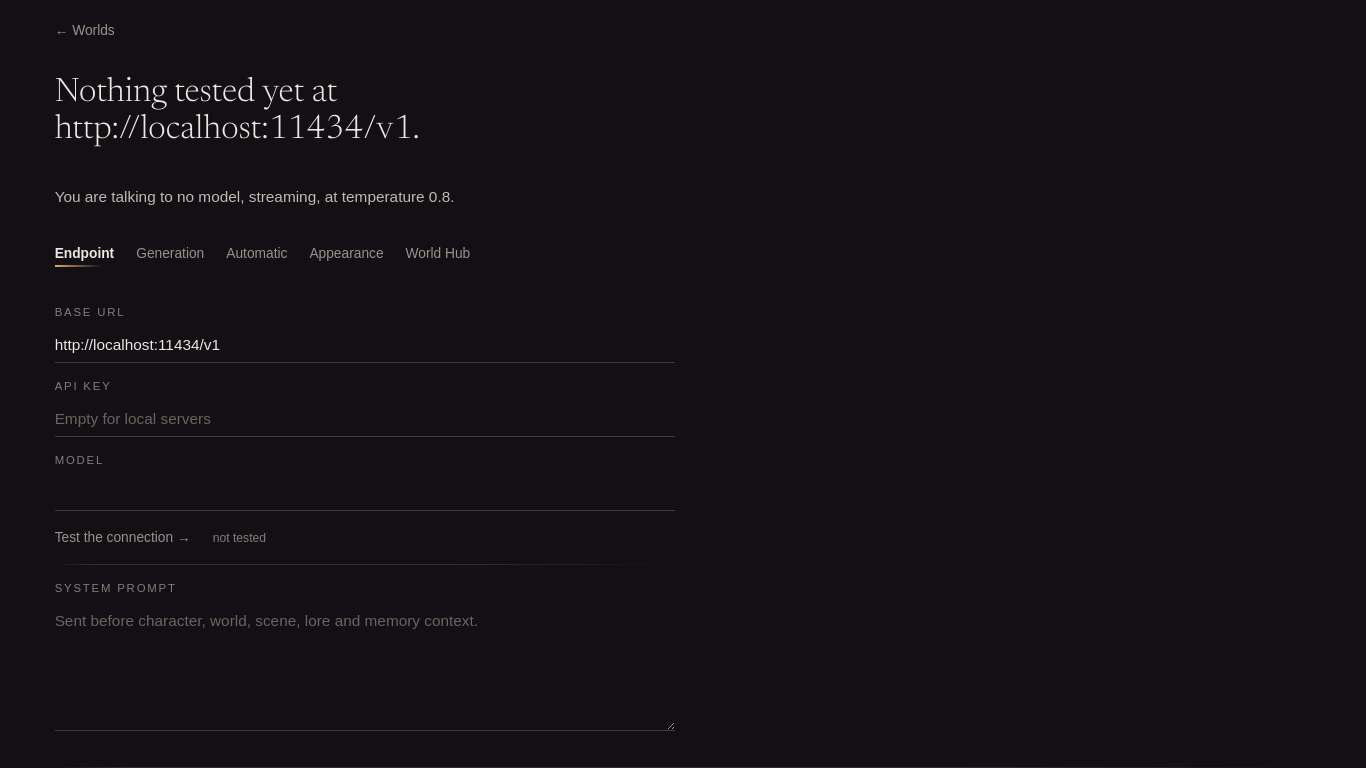
Test: the endpoint section › surfaces an unreachable endpoint without wiping the form
The width and height of the screenshot is (1366, 768).
Click the button "Test the connection →" at (123, 538), box [55,529,191,546]
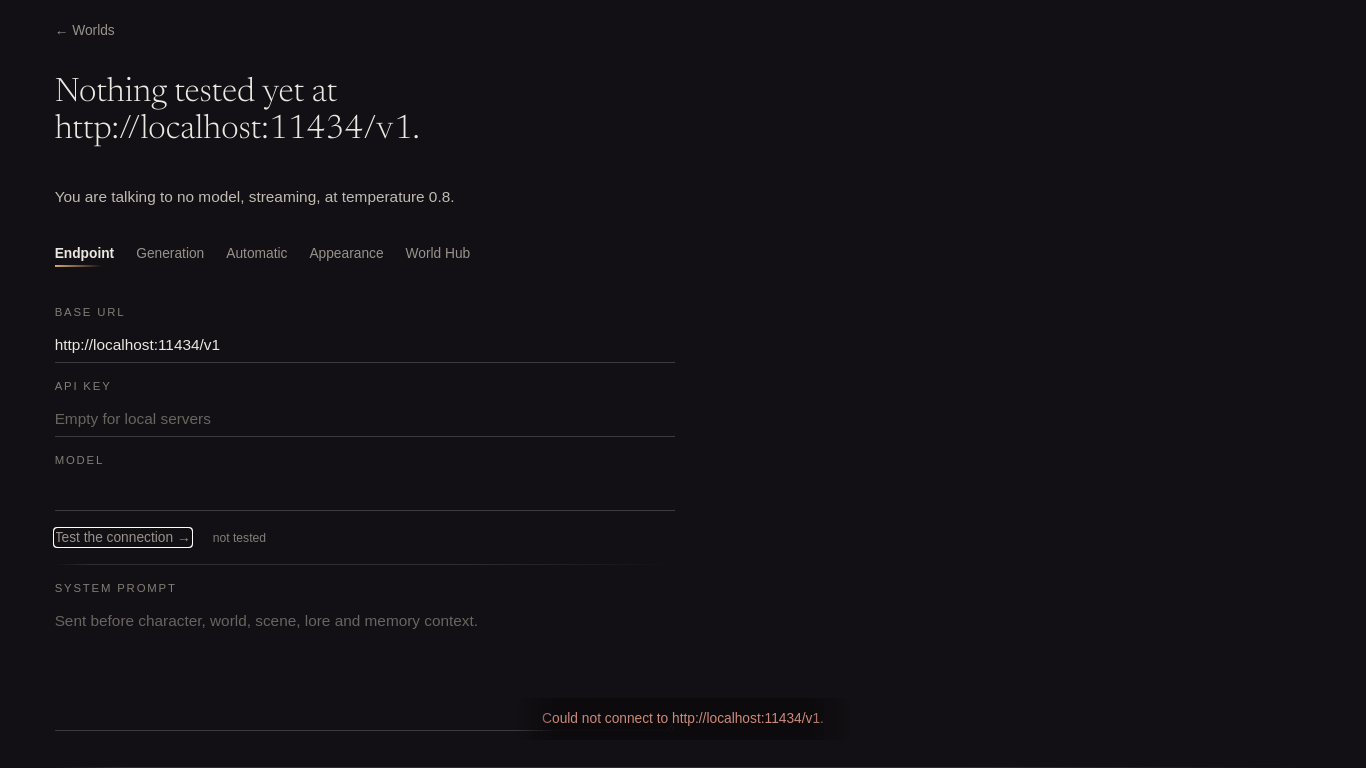
Expected: the field labelled "Base URL" holds "http://localhost:11434/v1", [55,327,675,363]
Result: the text "Could not connect to http://localhost:11434/v1." is shown at [516,698,850,740]
